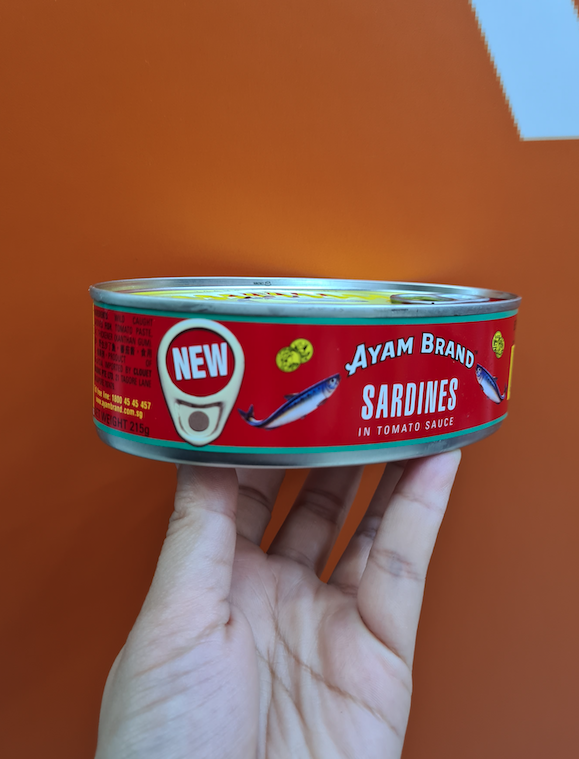Canned_Sardines_and_Mackerel: (94, 277, 508, 450)
